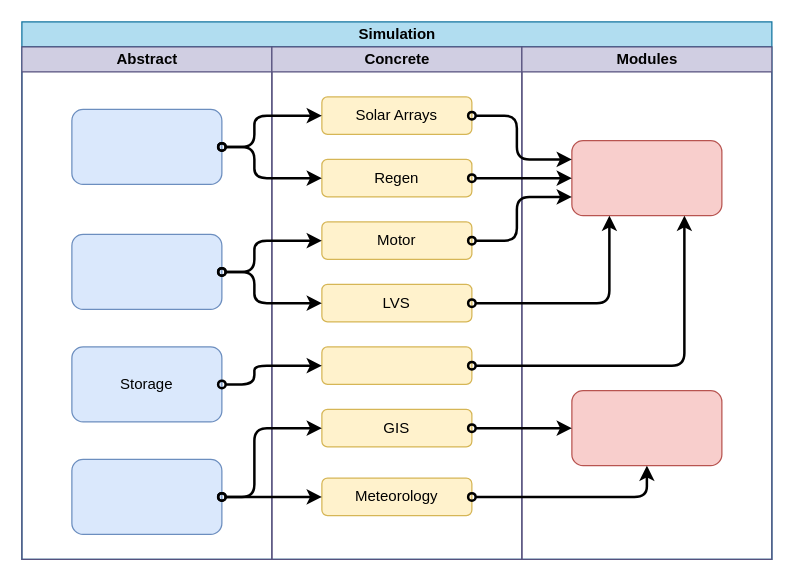
Some shapes in this 794 by 581 pixel diagram are drawn without their labels. The shapes that lost their labels are listed below. From the top down, each one's centre as x and y in pixels, then its label:
pixel 146 146: Producer
pixel 646 177: Car
pixel 146 271: Consumer
pixel 396 365: Battery
pixel 646 427: Environment
pixel 146 496: External
